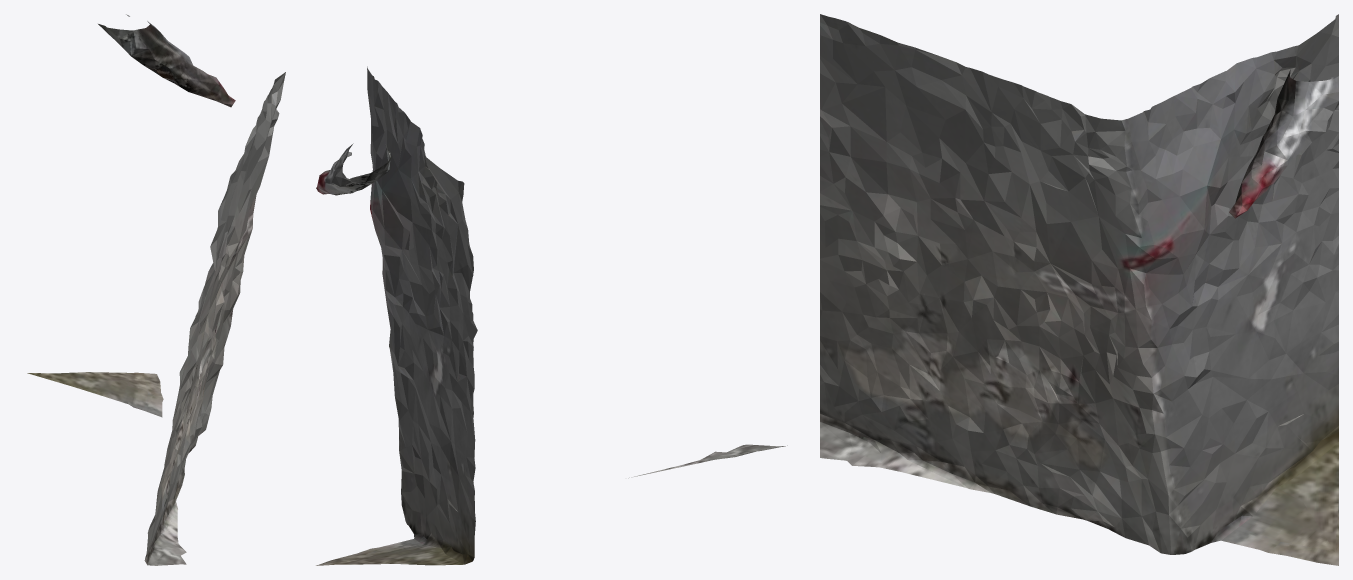
3 renders of one model, left to right at view 1: azimuth 30°, elevation 25°; view 2: azimuth 150°, elevation 25°; view 3: azimuth 270°, elevation 25°, orthographic. The views are drawn at different scales.
Bounding box in the file's own units: 0.6072 × 0.8374 × 0.8374.
Materials: 4 (4 with a texture image).
